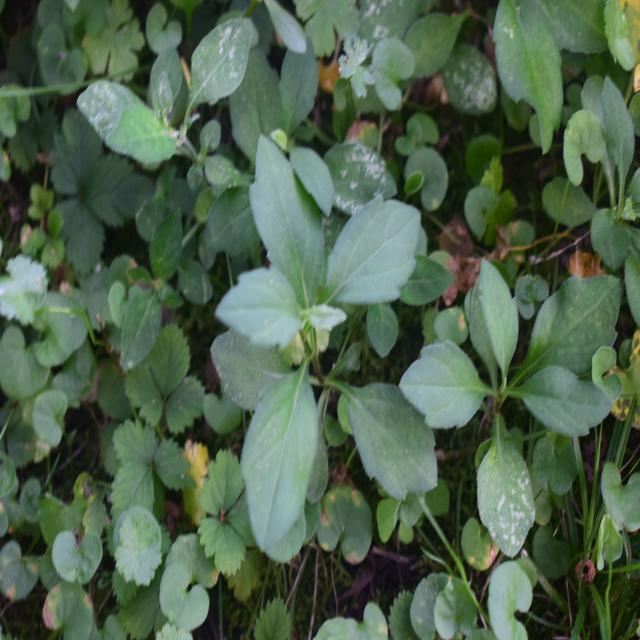Indian aster: (216, 185, 443, 517), (412, 280, 592, 548)
